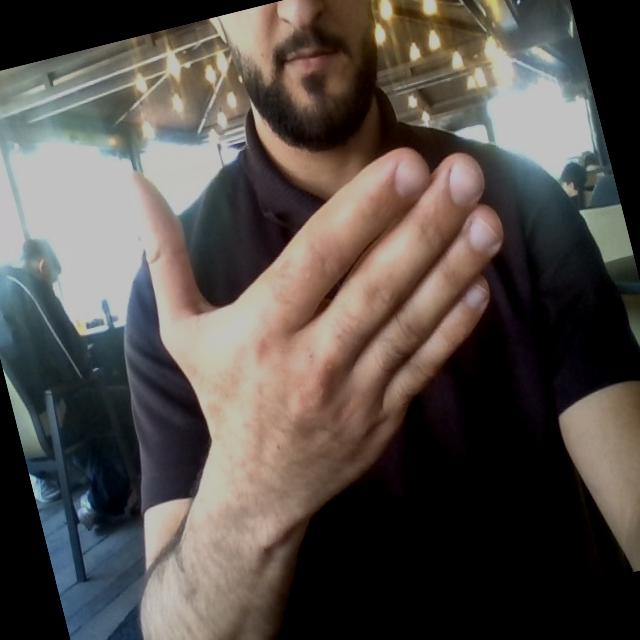Hand: (134, 150, 501, 528)
